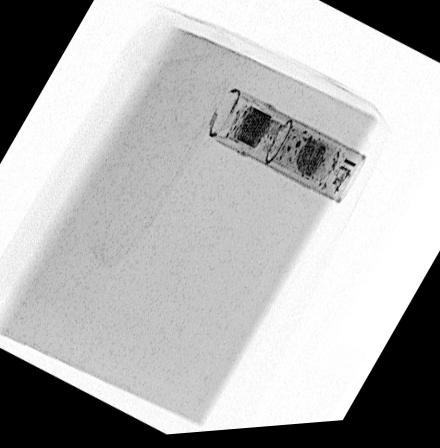Baton: (208, 91, 367, 211)
